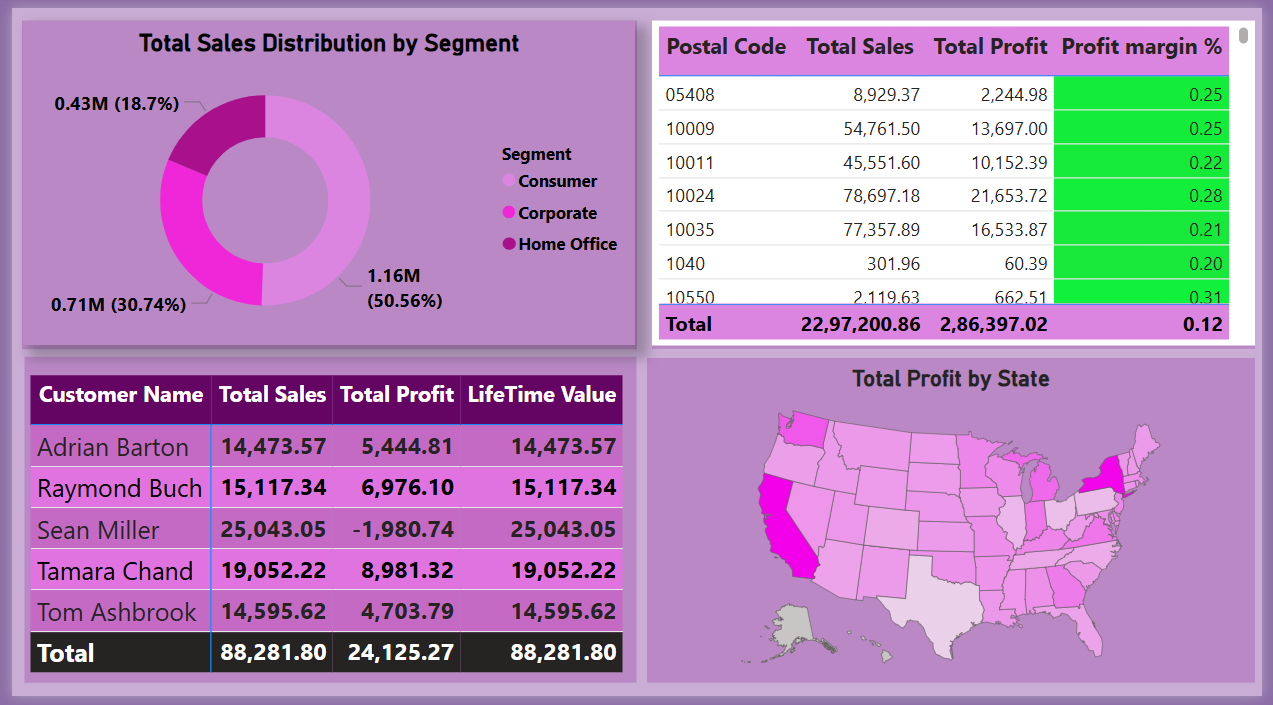

Layout of this report page (visuals, bound fields, positions):
{"tool":"powerbi","page":{"name":"Sales by Postal code","canvas":[1000,550],"ordinal":3},"visuals":[{"type":"shape","box":[10,278.6,490,261.4],"z":0},{"type":"shape","box":[8.3,10,491.7,263.3],"z":1000},{"type":"donutChart","title":"Total Sales Distribution by Segment","fields":{"Category":["Sample - Superstore.Segment"],"Y":["Sample - Superstore.Total Sales"]},"box":[8.9,10,490,260],"z":2000},{"type":"pivotTable","fields":{"Rows":["Sample - Superstore.Customer Name"],"Values":["Sample - Superstore.Total Sales","Sample - Superstore.Total Profit","Sample - Superstore.LifeTime Value"]},"box":[10,288.6,490,251.4],"z":3000},{"type":"shape","box":[511.7,10,483.3,263.3],"z":4000},{"type":"tableEx","fields":{"Values":["Sample - Superstore.Postal Code","Sample - Superstore.Total Sales","Sample - Superstore.Total Profit","Sample - Superstore.Profit margin %"]},"box":[511.7,10,483.3,260],"z":5000},{"type":"shape","box":[508.3,280,486.7,260],"z":6000},{"type":"shapeMap","fields":{"Value":["Sample - Superstore.Total Profit"],"Category":["Sample - Superstore.State"]},"box":[508,279,487,261],"z":7000}]}

Visuals, with their boxes in screenshot pixels (x1, y1, x2, y2), scaled from the page's 1000x550 canvas onto the 1273x705 screenshot:
shape: box=[13, 357, 636, 692]
shape: box=[11, 13, 636, 350]
"Total Sales Distribution by Segment" donutChart: box=[11, 13, 635, 346]
pivotTable - Sample - Superstore.Customer Name x Sample - Superstore.Total Sales: box=[13, 370, 636, 692]
shape: box=[651, 13, 1267, 350]
tableEx - Sample - Superstore.Postal Code x Sample - Superstore.Total Sales: box=[651, 13, 1267, 346]
shape: box=[647, 359, 1267, 692]
shapeMap - Sample - Superstore.Total Profit x Sample - Superstore.State: box=[647, 358, 1267, 692]
